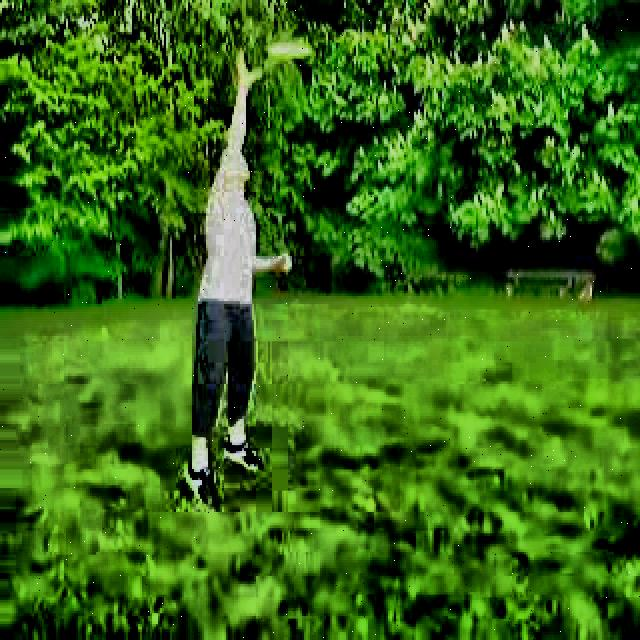T: (178, 46, 296, 506)
